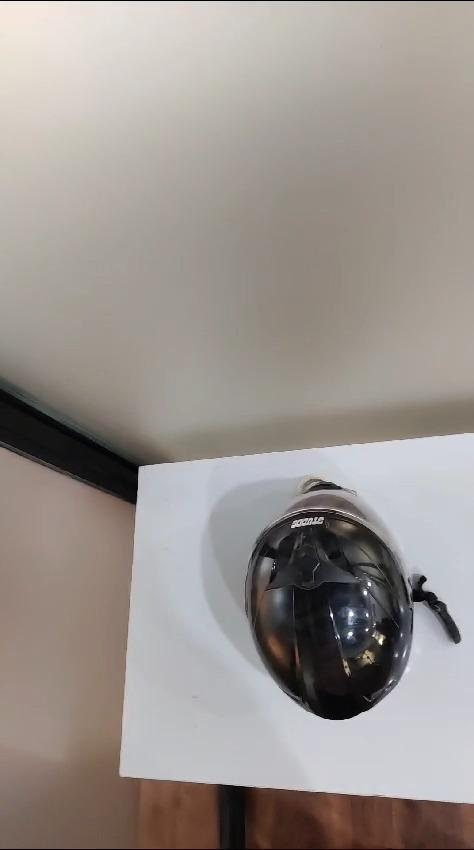Helmet: (232, 488, 410, 732)
